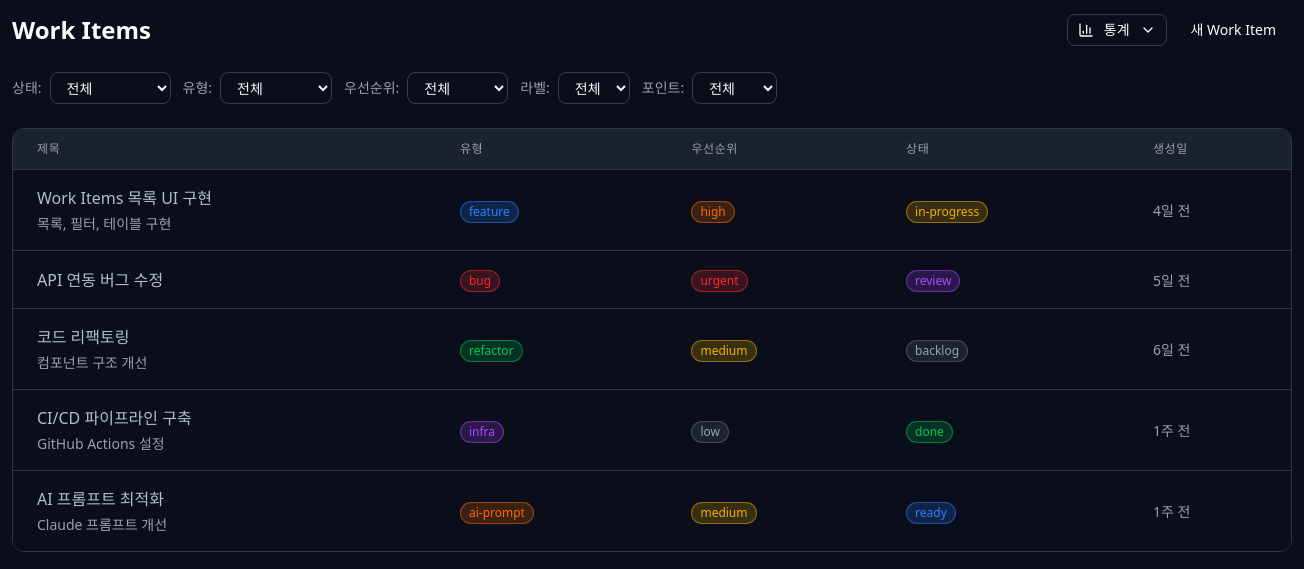
Test: WorkItemsPage › 필터 기능 › 우선순위 필터링 동작 (urgent만 표시)
This screenshot has width=1304, height=569.
// 우선순위 필터에서 "urgent" 선택 (id로 검색)
Select "urgent" in the dropdown labelled "우선순위:" at (458, 88), box [407, 72, 508, 104]
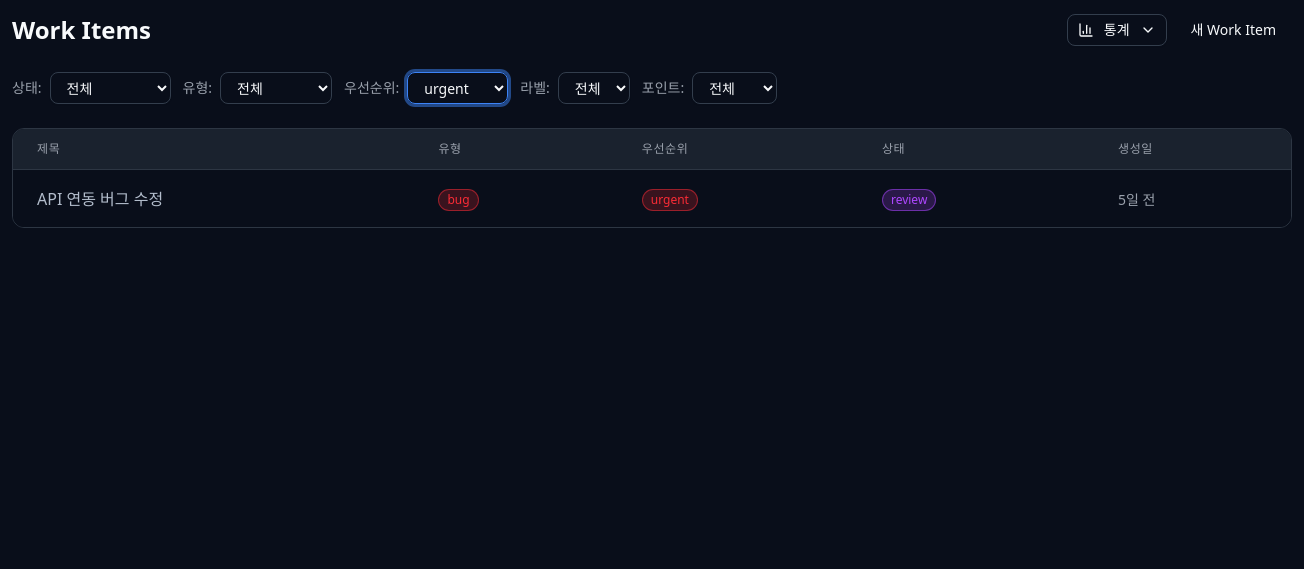
Check: the text "Work Items 목록 UI 구현" is gone
Check: the text "코드 리팩토링" is gone
